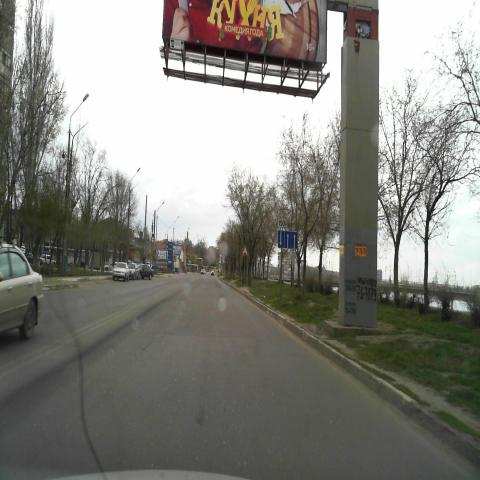5_15_7: (278, 230, 298, 248)
